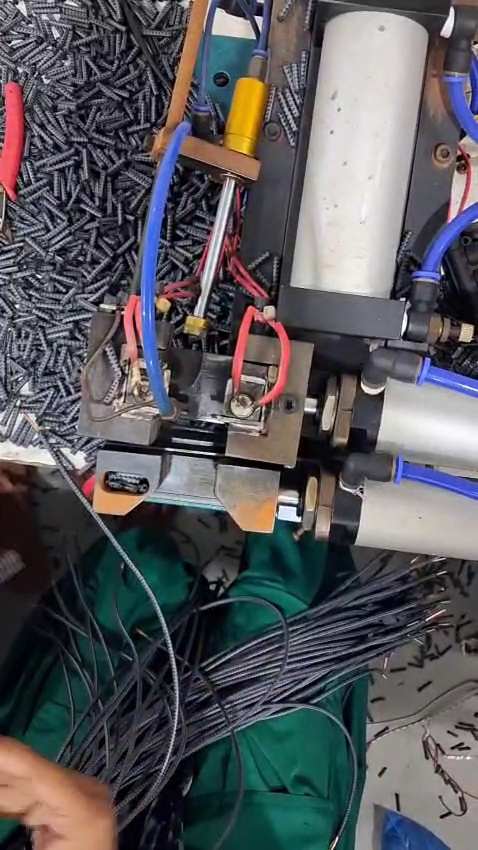machine: (74, 289, 319, 553)
peeled_wire: (10, 403, 73, 477)
